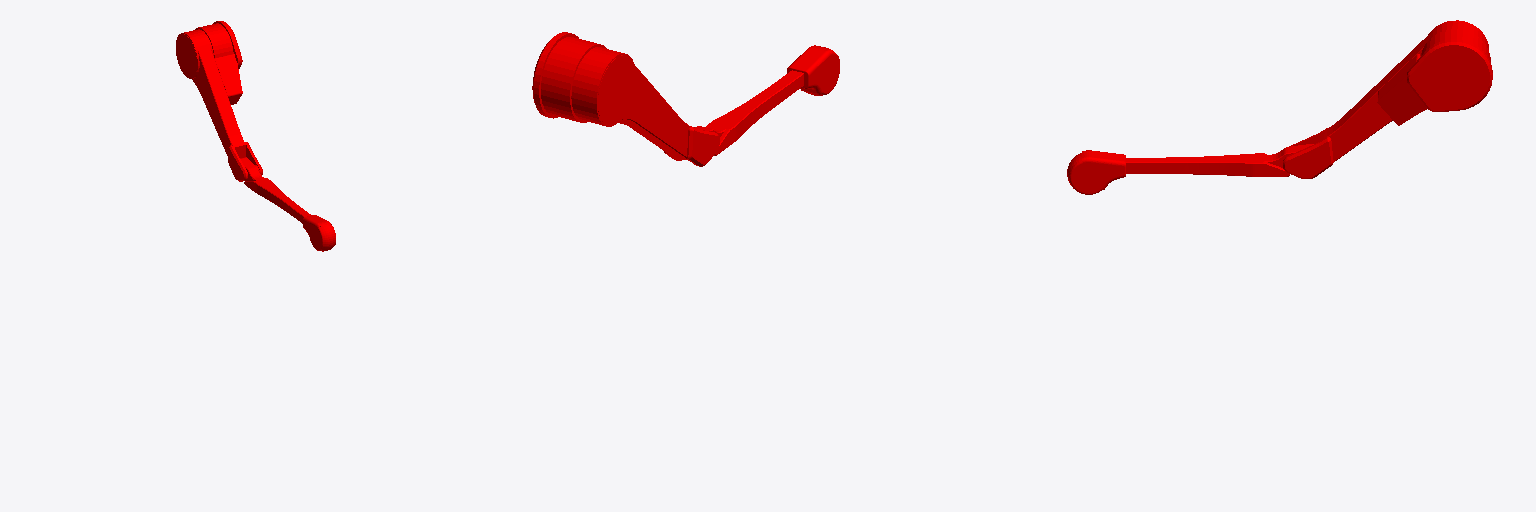
URDF robot description (plane):
<?xml version="1.0" ?>
<!--
  ~ Copyright 2020 Google LLC
  ~
  ~ Licensed under the Apache License, Version 2.0 (the "License");
  ~ you may not use this file except in compliance with the License.
  ~ You may obtain a copy of the License at
  ~
  ~     https://www.apache.org/licenses/LICENSE-2.0
  ~
  ~ Unless required by applicable law or agreed to in writing, software
  ~ distributed under the License is distributed on an "AS IS" BASIS,
  ~ WITHOUT WARRANTIES OR CONDITIONS OF ANY KIND, either express or implied.
  ~ See the License for the specific language governing permissions and
  ~ limitations under the License.
  -->

<robot name="plane">
    <link name="chassis">
        <contact>
            <lateral_friction value="1"/>
        </contact>
        <inertial>
            <origin rpy="0 0 0" xyz="0 0.03 0.043794"/>
            <mass value="13.715"/>
            <inertia ixx="0" ixy="0" ixz="0" iyy="0" iyz="0" izz="0"/>
        </inertial>
        <visual>
            <origin rpy="0 0 0" xyz="0 0 0.043794"/>
            <geometry>
                <mesh filename="chassis.obj" scale="1 1 1"/>
            </geometry>
            <material name="white">
                <color rgba="1 1 1 1"/>
            </material>
        </visual>
        <collision>
            <origin rpy="-1.57 0 0" xyz="0 0 0.043794"/>
            <geometry>
                <mesh filename="chassis_vhacd_mod.obj" scale="1 1 1"/>
            </geometry>
        </collision>
    </link>
    <link name="FR_hip_motor">
        <contact>
            <lateral_friction value="1"/>
        </contact>
        <inertial>
            <origin rpy="0 0 0" xyz="0.02 0 0"/>
            <mass value="1.095"/>
            <inertia ixx="0" ixy="0" ixz="0" iyy="0" iyz="0" izz="0"/>
        </inertial>

        <visual>
            <origin rpy="0 0 0" xyz="0 0 0"/>
            <geometry>
                <mesh filename="hip_motor_mirror.obj" scale="1 1 1"/>
            </geometry>
            <material name="white"/>
        </visual>

        <collision>
            <origin rpy="0 0 0" xyz="0 0 0"/>
            <geometry>
                <mesh filename="hip_motor_mirror.stl" scale="1 1 1"/>
            </geometry>
        </collision>
    </link>

    <joint name="FR_hip_motor_2_chassis_joint" type="revolute">
        <axis xyz="0 0 -1"/>
        <parent link="chassis"/>
        <child link="FR_hip_motor"/>
        <origin rpy="0 0 0" xyz="-0.0817145 0 0.242889"/>
        <limit effort="100" velocity="100" lower="-0.873" upper="1.0472"/>
        <joint_properties damping=".0" friction=".0"/>
    </joint>

    <link name="FR_upper_leg">
        <contact>
            <lateral_friction value="1"/>
        </contact>
        <inertial>
            <origin rpy="0 0 0" xyz="0 -0.04 -0.04"/>
            <mass value="1.527"/>
            <inertia ixx="0" ixy="0" ixz="0" iyy="0" iyz="0" izz="0"/>
        </inertial>
        <visual>
            <origin rpy="0 0 0" xyz="0 0 0"/>
            <geometry>
                <mesh filename="upper_leg_mirror.obj" scale="1 1 1"/>
            </geometry>
            <material name="white"/>
        </visual>

        <collision>
            <origin rpy="0 0 0" xyz="0 0 0"/>
            <geometry>
                <mesh filename="upper_leg_right_vhacd.obj" scale="1 1 1"/>
            </geometry>
        </collision>

    </link>

    <joint name="FR_upper_leg_2_hip_motor_joint" type="revolute">
        <axis xyz="1 0 0"/>
        <parent link="FR_hip_motor"/>
        <child link="FR_upper_leg"/>
        <origin rpy="0 0 0" xyz="-0.053565 0 0"/>
        <limit effort="100" velocity="100" lower="-1.3" upper="3.4"/>
        <joint_properties damping=".0" friction=".0"/>
    </joint>

    <link name="FR_lower_leg">
        <contact>
            <lateral_friction value="1"/>
        </contact>
        <inertial>
            <origin rpy="0 0 0" xyz="0 -0.16 -0.02"/>
            <mass value="0.241"/>
            <inertia ixx="0" ixy="0" ixz="0" iyy="0" iyz="0" izz="0"/>
        </inertial>
        <visual>
            <origin rpy="0 1.57079 0" xyz="0 0.0 0"/>
            <geometry>
                <mesh filename="lower_leg3.obj" scale="1 1 1"/>
            </geometry>
            <material name="white"/>
        </visual>

        <collision>
            <origin rpy="0 1.57079 0" xyz="0 0.0 0"/>
            <geometry>
                <mesh filename="lower_leg_3.stl" scale="1 1 1"/>
            </geometry>
        </collision>
    </link>
    <joint name="FR_lower_leg_2_upper_leg_joint" type="revolute">
        <axis xyz="1 0 0"/>
        <parent link="FR_upper_leg"/>
        <child link="FR_lower_leg"/>

        <origin rpy="0 0 0" xyz="0.02069  -0.20833  -0.1422"/>
        <limit effort="100" velocity="100" lower="-2.164" upper="0"/>
        <joint_properties damping=".0" friction=".0"/>
    </joint>


    <link name="FL_hip_motor">
        <contact>
            <lateral_friction value="1"/>
        </contact>
        <inertial>
            <origin rpy="0 0 0" xyz="-.02 0 0"/>
            <mass value="1.095"/>
            <inertia ixx="0" ixy="0" ixz="0" iyy="0" iyz="0" izz="0"/>
        </inertial>
        <visual>
            <origin rpy="0 0 0" xyz="0 0 0"/>
            <geometry>
                <mesh filename="hip_motor.obj" scale="1 1 1"/>
            </geometry>
            <material name="white">
            </material>
        </visual>

        <collision>
            <origin rpy="0 0 0" xyz="0 0 0"/>
            <geometry>
                <mesh filename="hip_motor.stl" scale="1 1 1"/>
            </geometry>
        </collision>

    </link>

    <joint name="FL_hip_motor_2_chassis_joint" type="revolute">
        <axis xyz="0 0 1"/>
        <parent link="chassis"/>
        <child link="FL_hip_motor"/>
        <origin rpy="0 0 0" xyz="0.0817145 0 0.242889"/>
        <limit effort="100" velocity="100" lower="-0.873" upper="1.0472"/>
        <joint_properties damping=".0" friction=".0"/>
    </joint>

    <link name="FL_upper_leg">
        <contact>
            <lateral_friction value="1"/>
        </contact>
        <inertial>
            <origin rpy="0 0 0" xyz="0 -0.14 -0.04"/>
            <mass value="2.527"/>
            <inertia ixx="0" ixy="0" ixz="0" iyy="0" iyz="0" izz="0"/>
        </inertial>
        <visual>
            <origin rpy="0 0 0" xyz="0 0 0"/>
            <geometry>

                <mesh filename="upper_leg_left_copy.obj" scale="1 1 1"/>
            </geometry>
            <material name="red">
                <color rgba="1 0 0 1"/>
            </material>
        </visual>

        <collision>
            <origin rpy="0 0 0" xyz="0 0 0"/>
            <geometry>
                <mesh filename="upper_leg_left_vhacd.obj" scale="1 1 1"/>
            </geometry>
        </collision>

    </link>


    <joint name="FL_upper_leg_2_hip_motor_joint" type="revolute">
        <axis xyz="1 0 0"/>
        <parent link="FL_hip_motor"/>
        <child link="FL_upper_leg"/>
        <origin rpy="0 0 0" xyz="0.055855  0 0"/>
        <limit effort="100" velocity="100" lower="-1.3" upper="3.4"/>
        <joint_properties damping=".0" friction=".0"/>
    </joint>


    <link name="FL_lower_leg">
        <contact>
            <lateral_friction value="1"/>
        </contact>
        <inertial>
            <origin rpy="0 0 0" xyz="0 -0.26 -0.02"/>
            <mass value="2.241"/>
            <inertia ixx="0" ixy="0" ixz="0" iyy="0" iyz="0" izz="0"/>
        </inertial>
        <visual>
            <origin rpy="0 1.57079 0" xyz="0 0 0"/>
            <geometry>
                <mesh filename="lower_leg3_copy.obj" scale="1 1 1"/>
            </geometry>
            <material name="red">
                <color rgba="1 0 0 1"/>
            </material>
        </visual>

        <collision>
            <origin rpy="0 1.57079 0" xyz="0 0 0"/>
            <geometry>
                <mesh filename="lower_leg_3.stl" scale="1 1 1"/>
            </geometry>
        </collision>

    </link>

    <joint name="FL_lower_leg_2_upper_leg_joint" type="revolute">
        <axis xyz="1 0 0"/>
        <parent link="FL_upper_leg"/>
        <child link="FL_lower_leg"/>
        <origin rpy="0 0 0" xyz="-0.02069  -0.20833  -0.1422"/>
        <limit effort="100" velocity="100" lower="-2.164" upper="0"/>
        <joint_properties damping=".0" friction=".0"/>
    </joint>


    <link name="RR_hip_motor">
        <contact>
            <lateral_friction value="1"/>
        </contact>
        <inertial>
            <origin rpy="0 0 0" xyz="0.02 0 0"/>
            <mass value="1.095"/>
            <inertia ixx="0" ixy="0" ixz="0" iyy="0" iyz="0" izz="0"/>
        </inertial>

        <visual>
            <origin rpy="0 0 0" xyz="0 0 0"/>
            <geometry>
                <mesh filename="hip_motor_mirror.obj" scale="1 1 1"/>
            </geometry>
            <material name="white"/>
        </visual>

        <collision>
            <origin rpy="0 0 0" xyz="0 0 0"/>
            <geometry>
                <mesh filename="hip_motor_mirror.stl" scale="1 1 1"/>
            </geometry>
        </collision>

    </link>

    <joint name="RR_hip_motor_2_chassis_joint" type="revolute">
        <axis xyz="0 0 -1"/>
        <parent link="chassis"/>
        <child link="RR_hip_motor"/>
        <origin rpy="0 0 0" xyz="-0.0817145 0 -0.194401"/>
        <limit effort="100" velocity="100" lower="-0.873" upper="1.0472"/>
        <joint_properties damping=".0" friction=".0"/>
    </joint>

    <link name="RR_upper_leg">
        <contact>
            <lateral_friction value="1"/>
        </contact>
        <inertial>
            <origin rpy="0 0 0" xyz="0 -0.04 -0.04"/>
            <mass value="1.527"/>
            <inertia ixx="0" ixy="0" ixz="0" iyy="0" iyz="0" izz="0"/>
        </inertial>
        <visual>
            <origin rpy="0 0 0" xyz="0 0 0"/>
            <geometry>
                <mesh filename="upper_leg_mirror2.obj" scale="1 1 1"/>
            </geometry>
            <material name="white"/>
        </visual>

        <collision>
            <origin rpy="0 0 0" xyz="0 0 0"/>
            <geometry>
                <mesh filename="upper_leg_right_vhacd.obj" scale="1 1 1"/>
            </geometry>
        </collision>

    </link>

    <joint name="RR_upper_leg_2_hip_motor_joint" type="revolute">
        <axis xyz="1 0 0"/>
        <parent link="RR_hip_motor"/>
        <child link="RR_upper_leg"/>
        <origin rpy="0 0 0" xyz="-0.053565 0 0"/>
        <limit effort="100" velocity="100" lower="-1.3" upper="3.4"/>
        <joint_properties damping=".0" friction=".0"/>
    </joint>

    <link name="RR_lower_leg">
        <contact>
            <lateral_friction value="1"/>
        </contact>
        <inertial>
            <origin rpy="0 0 0" xyz="0 -0.16 -0.02"/>
            <mass value="0.241"/>
            <inertia ixx="0" ixy="0" ixz="0" iyy="0" iyz="0" izz="0"/>
        </inertial>
        <visual>
            <origin rpy="0 1.57079 0" xyz="0 0 0"/>
            <geometry>
                <mesh filename="lower_leg3.obj" scale="1 1 1"/>
            </geometry>
            <material name="white"/>
        </visual>

        <collision>
            <origin rpy="0 1.57079 0" xyz="0 0 0"/>
            <geometry>
                <mesh filename="lower_leg_3.stl" scale="1 1 1"/>
            </geometry>
        </collision>

    </link>

    <joint name="RR_lower_leg_2_upper_leg_joint" type="revolute">
        <axis xyz="1 0 0"/>
        <parent link="RR_upper_leg"/>
        <child link="RR_lower_leg"/>
        <origin rpy="0 0 0" xyz="0.02069  -0.20833  -0.1422"/>
        <limit effort="100" velocity="100" lower="-2.164" upper="0"/>
        <joint_properties damping=".0" friction=".0"/>
    </joint>


    <link name="RL_hip_motor">
        <contact>
            <lateral_friction value="1"/>
        </contact>
        <inertial>
            <origin rpy="0 0 0" xyz="-.02 0 0"/>
            <mass value="1.095"/>
            <inertia ixx="0" ixy="0" ixz="0" iyy="0" iyz="0" izz="0"/>
        </inertial>
        <visual>
            <origin rpy="0 0 0" xyz="0 0 0"/>
            <geometry>
                <mesh filename="hip_motor.obj" scale="1 1 1"/>
            </geometry>
            <material name="white"/>
        </visual>

        <collision>
            <origin rpy="0 0 0" xyz="0 0 0"/>
            <geometry>
                <mesh filename="hip_motor.stl" scale="1 1 1"/>
            </geometry>
        </collision>

    </link>

    <joint name="RL_hip_motor_2_chassis_joint" type="revolute">
        <axis xyz="0 0 1"/>
        <parent link="chassis"/>
        <child link="RL_hip_motor"/>

        <origin rpy="0 0 0" xyz="0.0817145 0 -0.194401"/>
        <limit effort="100" velocity="100" lower="-0.873" upper="1.0472"/>
        <joint_properties damping=".0" friction=".0"/>
    </joint>

    <link name="RL_upper_leg">
        <contact>
            <lateral_friction value="1"/>
        </contact>
        <inertial>
            <origin rpy="0 0 0" xyz="0 -0.04 -0.04"/>
            <mass value="1.527"/>
            <inertia ixx="0" ixy="0" ixz="0" iyy="0" iyz="0" izz="0"/>
        </inertial>
        <visual>
            <origin rpy="0 0 0" xyz="0 0 0"/>
            <geometry>
                <mesh filename="upper_leg_left2.obj" scale="1 1 1"/>
            </geometry>
            <material name="white"/>
        </visual>

        <collision>
            <origin rpy="0 0 0" xyz="0 0 0"/>
            <geometry>
                <mesh filename="upper_leg_left_vhacd.obj" scale="1 1 1"/>
            </geometry>
        </collision>

    </link>


    <joint name="RL_upper_leg_2_hip_motor_joint" type="revolute">
        <axis xyz="1 0 0"/>
        <parent link="RL_hip_motor"/>
        <child link="RL_upper_leg"/>
        <origin rpy="0 0 0" xyz="0.055855  0 0"/>
        <limit effort="100" velocity="100" lower="-1.3" upper="3.4"/>
        <joint_properties damping=".0" friction=".0"/>
    </joint>


    <link name="RL_lower_leg">
        <contact>
            <lateral_friction value="1"/>
        </contact>
        <inertial>
            <origin rpy="0 0 0" xyz="0 -0.16 -0.02"/>
            <mass value="0.241"/>
            <inertia ixx="0" ixy="0" ixz="0" iyy="0" iyz="0" izz="0"/>
        </inertial>
        <visual>
            <origin rpy="0 1.57079 0" xyz="0 0 0"/>
            <geometry>
                <mesh filename="lower_leg3.obj" scale="1 1 1"/>
            </geometry>
            <material name="white"/>
        </visual>

        <collision>
            <origin rpy="0 1.57079 0" xyz="0 0 0"/>
            <geometry>
                <mesh filename="lower_leg_3.stl" scale="1 1 1"/>
            </geometry>
        </collision>

    </link>

    <joint name="RL_lower_leg_2_upper_leg_joint" type="revolute">
        <axis xyz="1 0 0"/>
        <parent link="RL_upper_leg"/>
        <child link="RL_lower_leg"/>
        <origin rpy="0 0 0" xyz="-0.02069  -0.20833  -0.1422"/>
        <limit effort="100" velocity="100" lower="-2.164" upper="0"/>
        <joint_properties damping=".0" friction=".0"/>
    </joint>

    <link name="toeRL">
        <contact>
            <friction_anchor/>
            <stiffness value="30000.0"/>
            <damping value="1000.0"/>
            <spinning_friction value="0.1"/>
            <lateral_friction value="1.0"/>
        </contact>
        <visual>
            <origin rpy="0 0 0" xyz="0 0 0"/>
            <geometry>
                <sphere radius="0.0"/>
            </geometry>
            <material name="white"/>
        </visual>
        <collision>
            <origin rpy="0 0 0" xyz="0 0 0"/>
            <geometry>
                <sphere radius="0.03"/>
            </geometry>
        </collision>
        <inertial>
            <mass value="0.1"/>
            <inertia ixx="0.000025" ixy="0" ixz="0" iyy="0.000025" iyz="0" izz="0.000025"/>
        </inertial>
    </link>
    <joint name="jtoeRL" type="fixed">
        <parent link="RL_lower_leg"/>
        <child link="toeRL"/>
        <origin xyz="0 -0.25 -0.022"/>
        <dynamics damping="0.0" friction="0.0"/>
    </joint>

    <link name="toeRR">
        <contact>
            <friction_anchor/>
            <stiffness value="30000.0"/>
            <damping value="1000.0"/>
            <spinning_friction value="0.1"/>
            <lateral_friction value="1.0"/>
        </contact>
        <visual>
            <origin rpy="0 0 0" xyz="0 0 0"/>
            <geometry>
                <sphere radius="0.0"/>
            </geometry>
            <material name="white"/>
        </visual>
        <collision>
            <origin rpy="0 0 0" xyz="0 0 0"/>
            <geometry>
                <sphere radius="0.03"/>
            </geometry>
        </collision>
        <inertial>
            <mass value="0.1"/>
            <inertia ixx="0.000025" ixy="0" ixz="0" iyy="0.000025" iyz="0" izz="0.000025"/>
        </inertial>
    </link>
    <joint name="jtoeRR" type="fixed">
        <parent link="RR_lower_leg"/>
        <child link="toeRR"/>
        <origin xyz="0 -0.25 -0.022"/>
        <dynamics damping="0.0" friction="0.0"/>
    </joint>

    <link name="toeFL">
        <contact>
            <friction_anchor/>
            <stiffness value="30000.0"/>
            <damping value="1000.0"/>
            <spinning_friction value="0.1"/>
            <lateral_friction value="1.0"/>
        </contact>
        <visual>
            <origin rpy="0 0 0" xyz="0 0 0"/>
            <geometry>
                <sphere radius="0.0"/>
            </geometry>
            <material name="white"/>
        </visual>
        <collision>
            <origin rpy="0 0 0" xyz="0 0 0"/>
            <geometry>
                <sphere radius="0.03"/>
            </geometry>
        </collision>
        <inertial>
            <mass value="0.1"/>
            <inertia ixx="0.000025" ixy="0" ixz="0" iyy="0.000025" iyz="0" izz="0.000025"/>
        </inertial>
    </link>
    <joint name="jtoeFL" type="fixed">
        <parent link="FL_lower_leg"/>
        <child link="toeFL"/>
        <origin xyz="0 -0.25 -0.022"/>
        <dynamics damping="0.0" friction="0.0"/>
    </joint>

    <link name="toeFR">
        <contact>
            <friction_anchor/>
            <stiffness value="30000.0"/>
            <damping value="1000.0"/>
            <spinning_friction value="0.1"/>
            <lateral_friction value="1.0"/>
        </contact>
        <visual>
            <origin rpy="0 0 0" xyz="0 0 0"/>
            <geometry>
                <sphere radius="0.0"/>
            </geometry>
            <material name="white"/>
        </visual>
        <collision>
            <origin rpy="0 0 0" xyz="0 0 0"/>
            <geometry>
                <sphere radius="0.03"/>
            </geometry>
        </collision>
        <inertial>
            <mass value="0.1"/>
            <inertia ixx="0.000025" ixy="0" ixz="0" iyy="0.000025" iyz="0" izz="0.000025"/>
        </inertial>
    </link>
    <joint name="jtoeFR" type="fixed">
        <parent link="FR_lower_leg"/>
        <child link="toeFR"/>
        <origin xyz="0 -0.25 -0.022"/>
        <dynamics damping="0.0" friction="0.0"/>
    </joint>
</robot>

--- Render facts (derived) ---
Views: 3 orthographic renders of the robot side by side, from view 1: azimuth 30°, elevation 25°; view 2: azimuth 150°, elevation 25°; view 3: azimuth 270°, elevation 25°.
Robot: plane — 17 links, 16 joints (12 revolute, 4 fixed); root link chassis; default pose: every joint at zero.
Links seen in each view (by area): view 1: FL_upper_leg, FL_lower_leg; view 2: FL_upper_leg, FL_lower_leg; view 3: FL_upper_leg, FL_lower_leg.
Link boxes in pixels (bbox=[...]): FL_upper_leg: bbox=[176, 21, 262, 181]; FL_lower_leg: bbox=[240, 157, 335, 251]; FL_upper_leg: bbox=[532, 32, 719, 166]; FL_lower_leg: bbox=[695, 45, 839, 155]; FL_upper_leg: bbox=[1283, 20, 1492, 178]; FL_lower_leg: bbox=[1067, 144, 1313, 194].
Bounding box of the posed robot: 0.3029 × 0.5297 × 0.6487 m (x, y, z).
Meshes: 9 distinct files referenced, 2 mesh visuals loaded (2 OBJ); not drawn: 11 (reference not matched to a file when rendering).